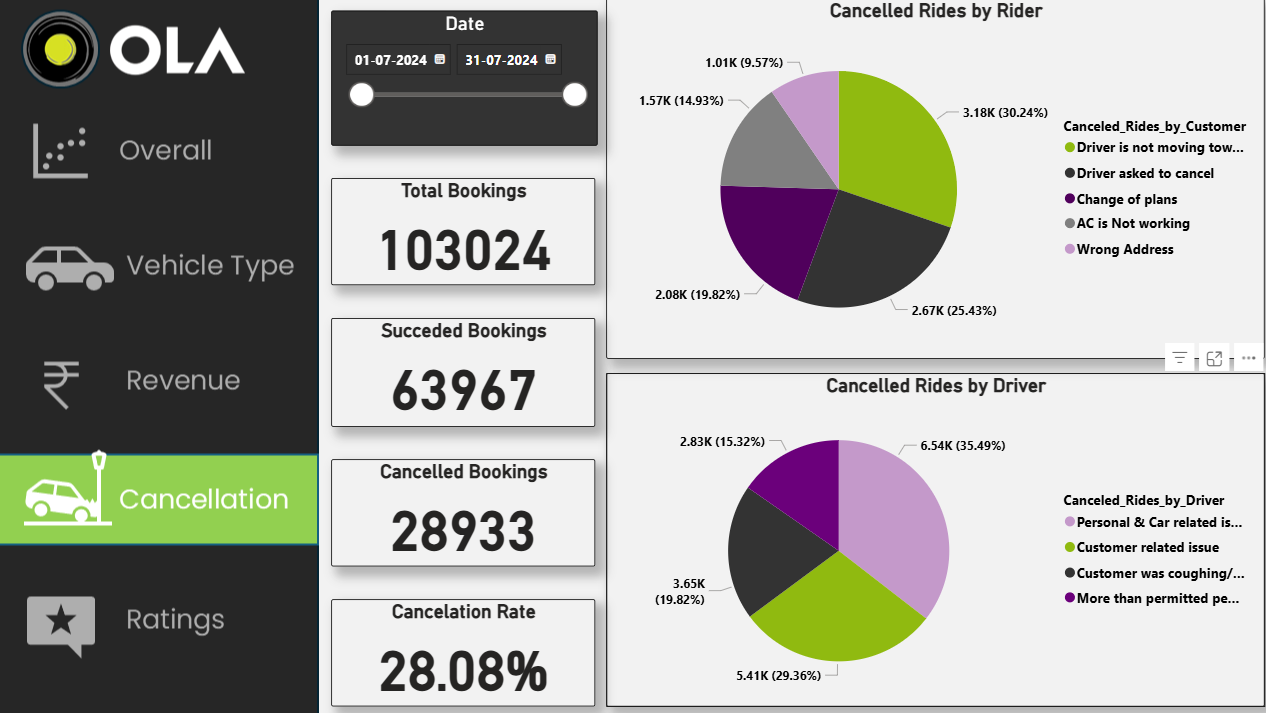

This screenshot's page, from the dashboard's own definition file:
{"tool":"powerbi","page":{"name":"Cancelation ","canvas":[1280,720],"ordinal":3},"visuals":[{"type":"actionButton","box":[0,220.9,323.8,90.6],"z":0},{"type":"actionButton","box":[0,579.1,323.8,90.6],"z":1000},{"type":"actionButton","box":[0,343.1,323.8,90.6],"z":2000},{"type":"actionButton","box":[0,112.5,323.8,90.6],"z":3000},{"type":"pieChart","title":"Cancelled Rides by Rider","fields":{"Category":["olasheet.Canceled_Rides_by_Customer"],"Y":["CountNonNull(olasheet.Canceled_Rides_by_Customer)"]},"box":[611.5,0,658.5,360.6],"z":4000},{"type":"pieChart","title":"Cancelled Rides by Driver","fields":{"Category":["olasheet.Canceled_Rides_by_Driver"],"Y":["CountNonNull(olasheet.Canceled_Rides_by_Driver)"]},"box":[611.5,374.9,658.5,333.5],"z":5000},{"type":"slicer","title":"Date","fields":{"Values":["olasheet.Date"]},"box":[336.2,12.5,266.2,135],"z":6000},{"type":"card","title":"Total Bookings","fields":{"Values":["CountNonNull(olasheet.Booking_ID)"]},"box":[336.2,180,263.8,107.5],"z":7000},{"type":"card","title":"Succeded Bookings","fields":{"Values":["CountNonNull(olasheet.Booking_ID)"]},"box":[336.2,320,263.8,108.8],"z":8000},{"type":"card","title":"Cancelled Bookings","fields":{"Values":["CountNonNull(olasheet.Booking_ID)"]},"box":[336.2,461.2,263.8,107.5],"z":9000},{"type":"card","title":"Cancelation Rate","fields":{"Values":["olasheet.cancellation_rate"]},"box":[336.2,601.2,263.8,107.5],"z":10000}]}

Visuals, with their boxes in screenshot pixels (x1, y1, x2, y2), scaled from the page's 1280x720 canvas onto the 1266x713 screenshot:
actionButton: 0,219,320,308
actionButton: 0,573,320,663
actionButton: 0,340,320,429
actionButton: 0,111,320,201
"Cancelled Rides by Rider" pieChart: 605,0,1256,357
"Cancelled Rides by Driver" pieChart: 605,371,1256,702
"Date" slicer: 333,12,596,146
"Total Bookings" card: 333,178,593,285
"Succeded Bookings" card: 333,317,593,425
"Cancelled Bookings" card: 333,457,593,563
"Cancelation Rate" card: 333,595,593,702
